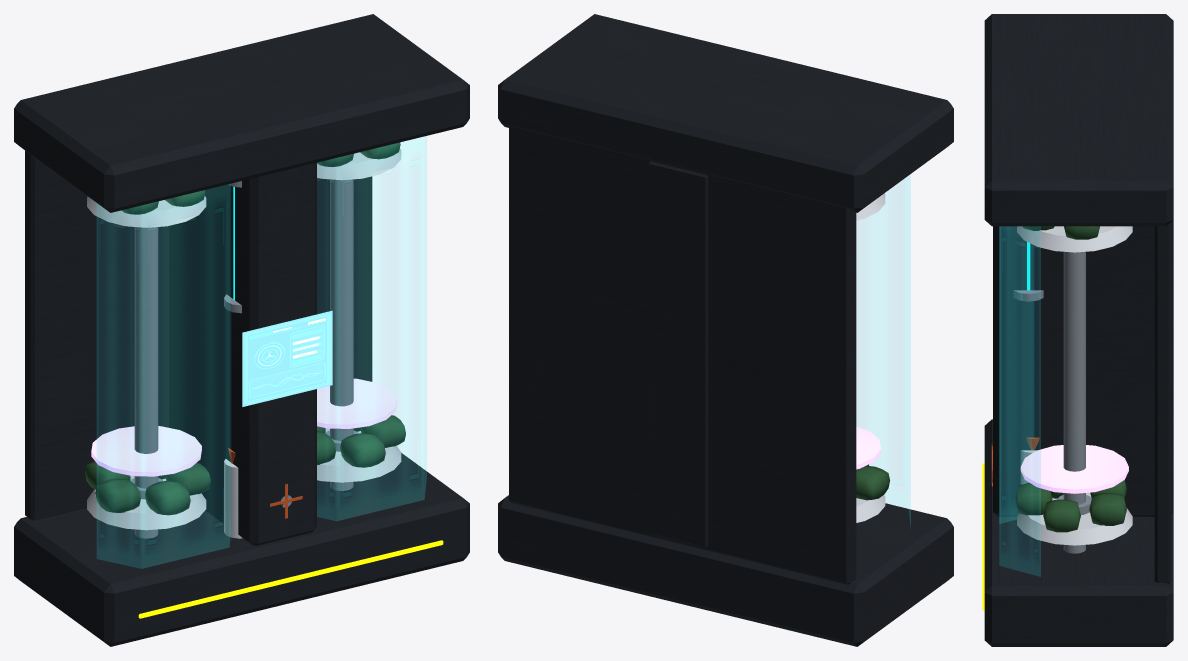
The model's file is hydro_column_r1_03.glb.
The picture shows the model from 3 angles, left to right: view 1: azimuth 30°, elevation 25°; view 2: azimuth 150°, elevation 25°; view 3: azimuth 270°, elevation 25°; orthographic projection. The views are drawn at different scales.
Visible parts, largest first — view 1: Hydro03_TwinCarouselGunmetalHull, Hydro03_TwinTranslucentGlassColumns, Hydro03_MachinedSpindlesAndManifold, Hydro03_WhiteTwinPlanterTrays, Hydro03_TwinCarouselFoliage, Hydro03_CenterOLEDConsole, Hydro03_UVGrowHalos, Hydro03_AmberSumpLED; view 2: Hydro03_TwinCarouselGunmetalHull, Hydro03_TwinTranslucentGlassColumns, Hydro03_TwinCarouselFoliage, Hydro03_WhiteTwinPlanterTrays, Hydro03_UVGrowHalos; view 3: Hydro03_TwinCarouselGunmetalHull, Hydro03_TwinTranslucentGlassColumns, Hydro03_MachinedSpindlesAndManifold, Hydro03_WhiteTwinPlanterTrays, Hydro03_TwinCarouselFoliage, Hydro03_UVGrowHalos, Hydro03_AmberSumpLED.
Boxes of the visible parts, x1,y1,x2,y2 form: Hydro03_TwinCarouselGunmetalHull: (14,14,469,646); Hydro03_TwinTranslucentGlassColumns: (97,136,426,568); Hydro03_MachinedSpindlesAndManifold: (130,179,358,538); Hydro03_WhiteTwinPlanterTrays: (87,148,401,538); Hydro03_TwinCarouselFoliage: (85,142,405,515); Hydro03_CenterOLEDConsole: (242,310,332,406); Hydro03_UVGrowHalos: (91,378,396,476); Hydro03_AmberSumpLED: (138,540,443,618); Hydro03_TwinCarouselGunmetalHull: (498,14,953,646); Hydro03_TwinTranslucentGlassColumns: (857,175,910,523); Hydro03_TwinCarouselFoliage: (856,464,889,500); Hydro03_WhiteTwinPlanterTrays: (856,193,885,522); Hydro03_UVGrowHalos: (856,426,880,469); Hydro03_TwinCarouselGunmetalHull: (984,14,1173,646); Hydro03_TwinTranslucentGlassColumns: (999,226,1040,576); Hydro03_MachinedSpindlesAndManifold: (1013,251,1091,553); Hydro03_WhiteTwinPlanterTrays: (1017,226,1132,545); Hydro03_TwinCarouselFoliage: (1015,226,1126,532); Hydro03_UVGrowHalos: (1020,445,1128,493); Hydro03_AmberSumpLED: (982,463,984,610).
Bounding box in the file's own units: 1.95 × 2.45 × 0.91.
11 materials, 11 textured.
